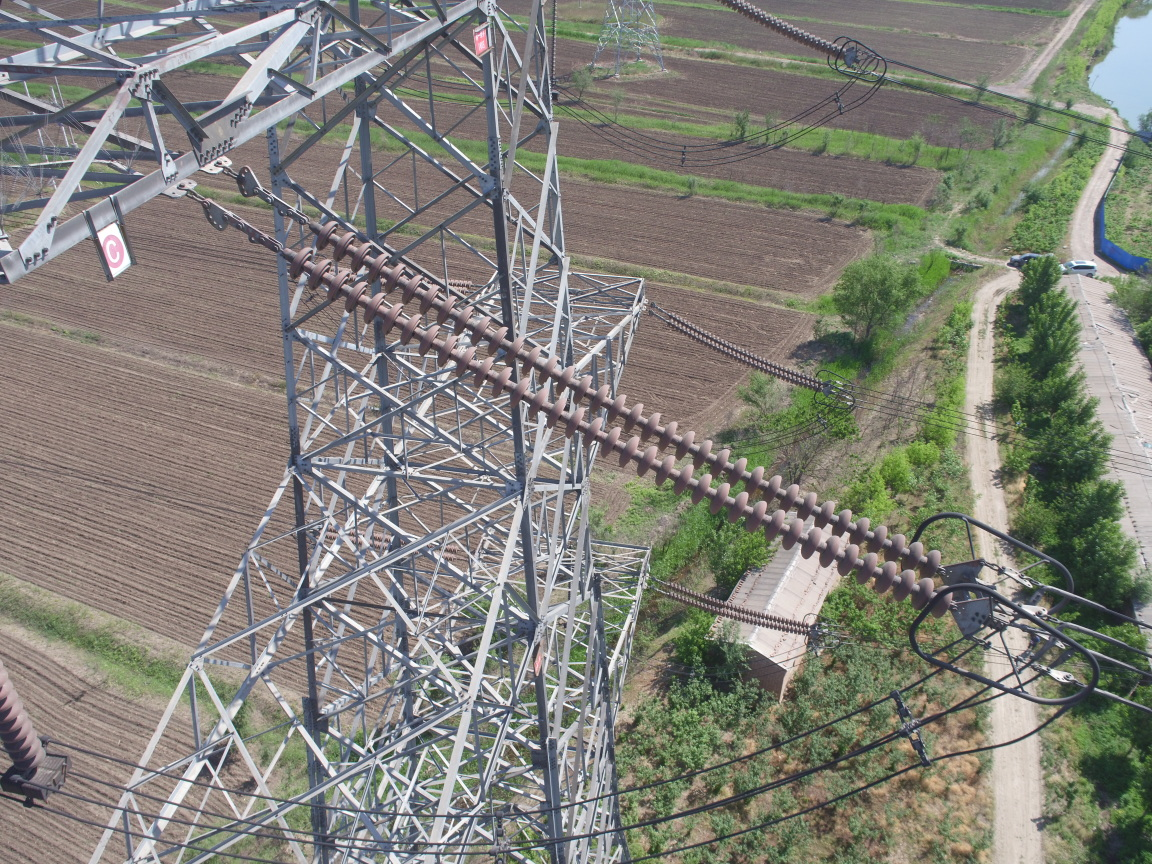insulator: (255, 207, 981, 626)
